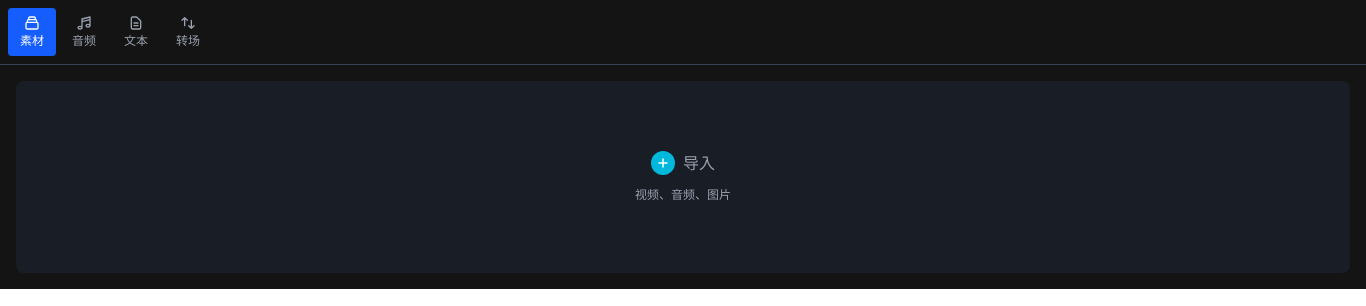
Scenario: MediaLibrary › 6.1.1 测试空状态显示 › should not show empty state when items exist
Trigger file import by clicking empty state
What coordinates should you click on to do the following:
click the text "视频、音频、图片"
I would click on:
 (683, 177)
Its box is [16, 81, 1350, 273].
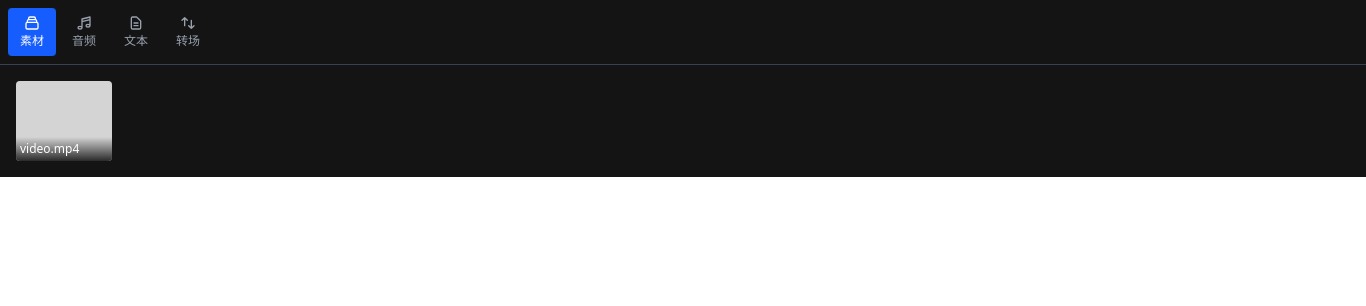
Result: the text "视频、音频、图片" is gone
